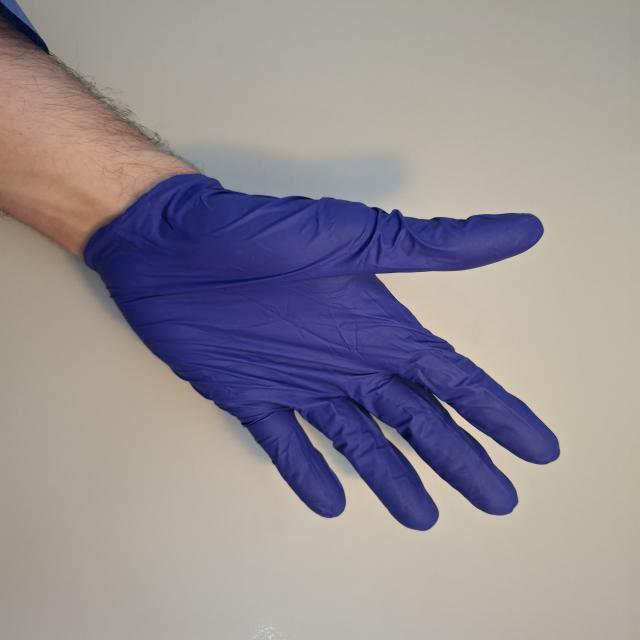glove_on: (77, 167, 565, 535)
